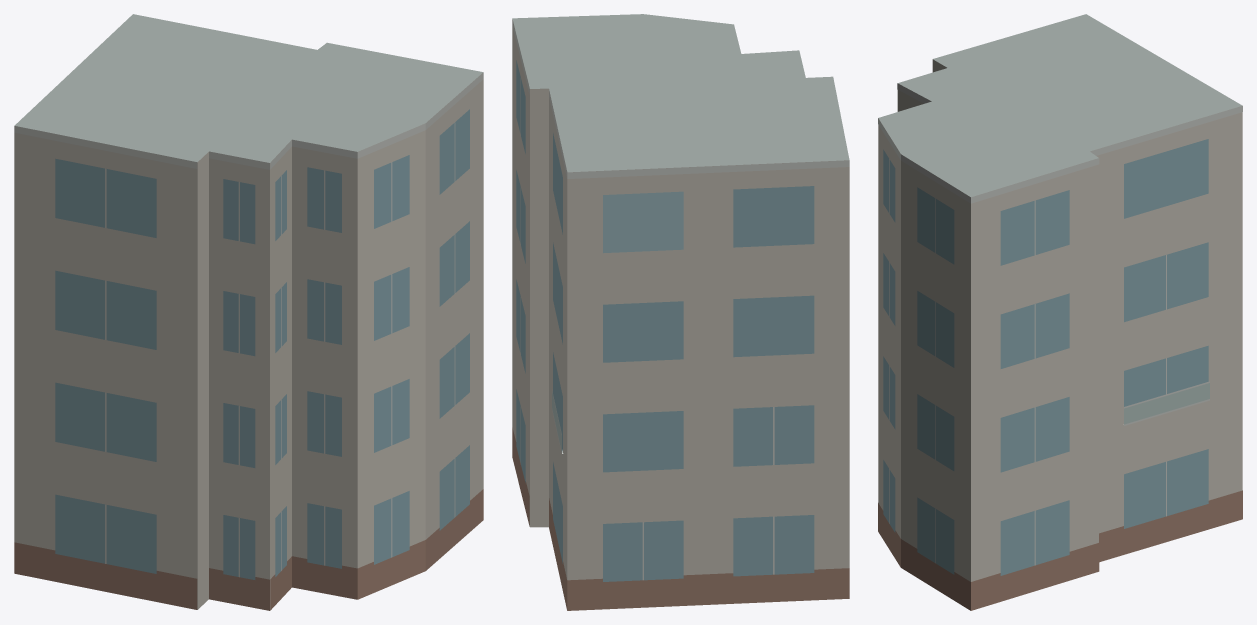
File: survey-upis-32978858.glb
3 renders of one model, left to right at view 1: azimuth 30°, elevation 25°; view 2: azimuth 150°, elevation 25°; view 3: azimuth 270°, elevation 25°, orthographic. The views are drawn at different scales.
Visible parts, largest first — view 1: survey-upis-32978858.tmp; view 2: survey-upis-32978858.tmp; view 3: survey-upis-32978858.tmp.
Boxes of the visible parts, left/top/right/bottom form: survey-upis-32978858.tmp: left=14, top=14, right=483, bottom=610; survey-upis-32978858.tmp: left=512, top=14, right=849, bottom=610; survey-upis-32978858.tmp: left=878, top=14, right=1242, bottom=610.
Size of the model in its own units: 15.03 by 15.8 by 12.63.
